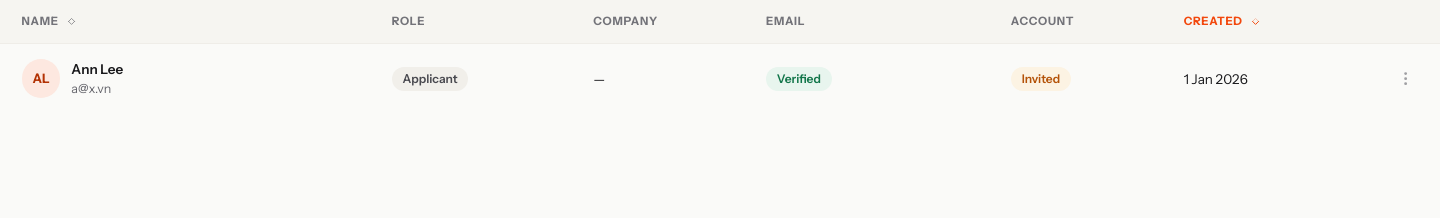
Users table row menu by status › has no status action for invited
The image size is (1440, 218).
Click the button named "Actions for Ann Lee". click: point(1405, 79)
box: [1388,62,1423,96]
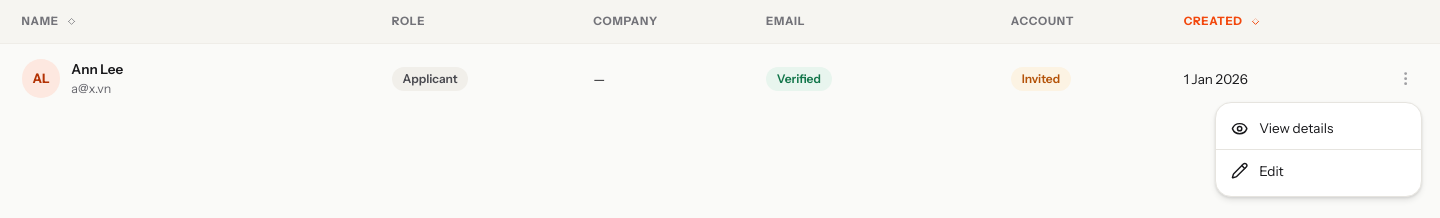
Check: the menu item "View details" is shown, box [1231,120,1333,137]
